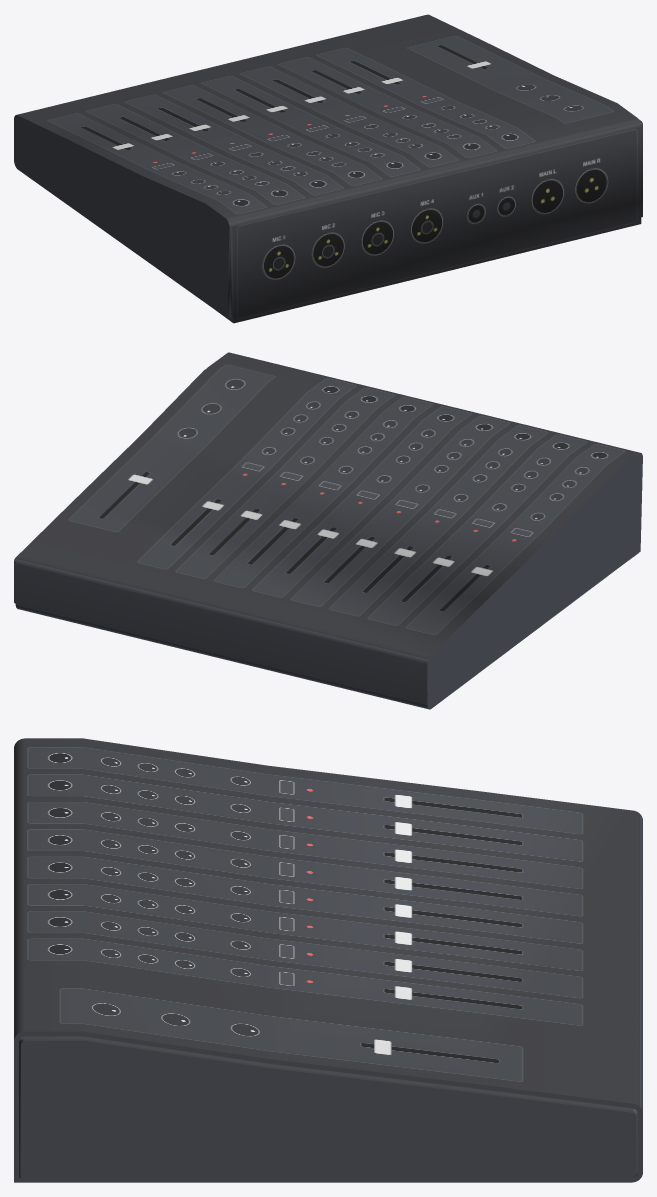
Rendered from mackie-1202vlz4.glb.
3 renders of one model, top to bottom at view 1: azimuth 30°, elevation 25°; view 2: azimuth 150°, elevation 25°; view 3: azimuth 270°, elevation 25°, orthographic. The views are drawn at different scales.
Parts seen in each view (by area): view 1: mackie-1202vlz4-body; view 2: mackie-1202vlz4-body; view 3: mackie-1202vlz4-body.
Boxes of the visible parts, left/top/right/bottom form: mackie-1202vlz4-body: left=14, top=14, right=642, bottom=323; mackie-1202vlz4-body: left=14, top=352, right=642, bottom=709; mackie-1202vlz4-body: left=14, top=738, right=642, bottom=1182.
Bounding box in the file's own units: 0.303 × 0.075 × 0.272.
Materials: 1 (1 with a texture image).
